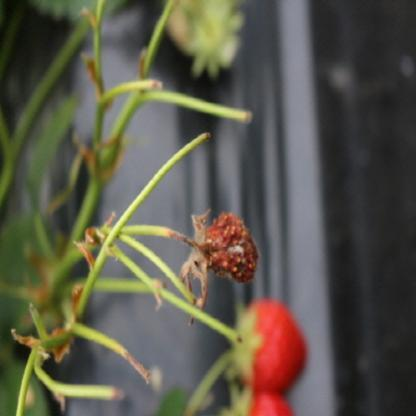Strawberry_Gray_Mold: (174, 209, 260, 309)
